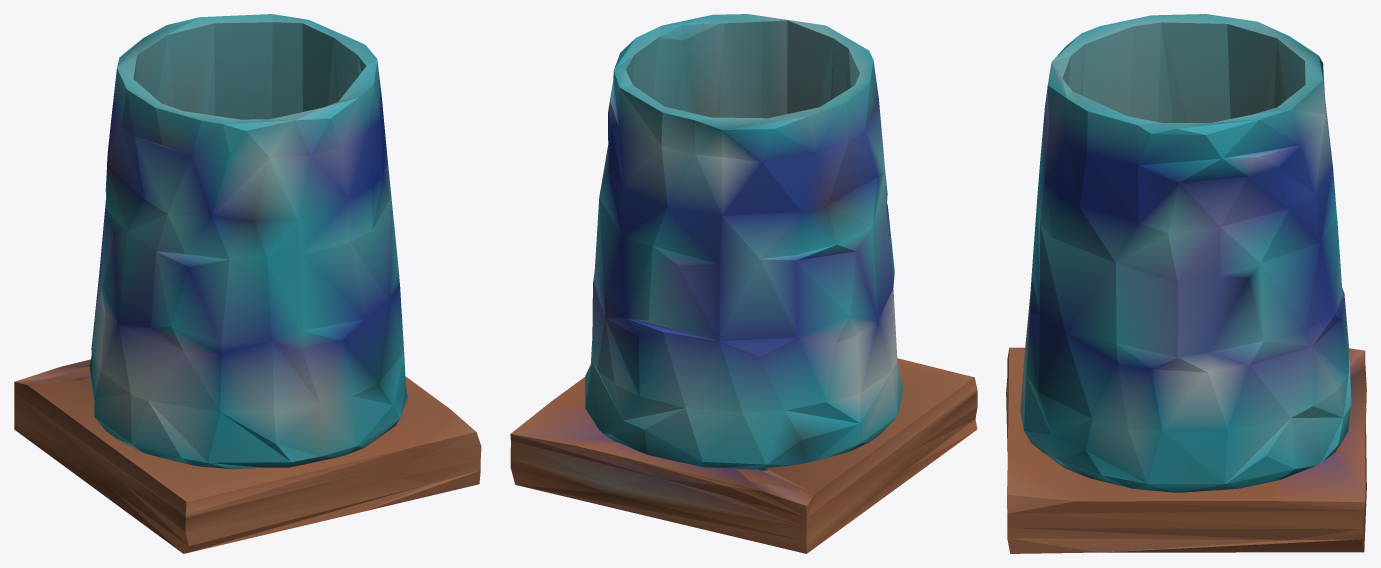
The model's file is kalta_lo.glb.
The picture shows the model from 3 angles, left to right: view 1: azimuth 30°, elevation 25°; view 2: azimuth 150°, elevation 25°; view 3: azimuth 270°, elevation 25°; orthographic projection. The views are drawn at different scales.
Visible parts, largest first — view 1: geometry_0; view 2: geometry_0; view 3: geometry_0.
Boxes of the visible parts, x1=… form: geometry_0: x1=14, y1=14, x2=481, y2=553; geometry_0: x1=510, y1=14, x2=977, y2=553; geometry_0: x1=1006, y1=14, x2=1366, y2=553.
Size of the model in its own units: 0.7602 by 0.9507 by 0.7607.
